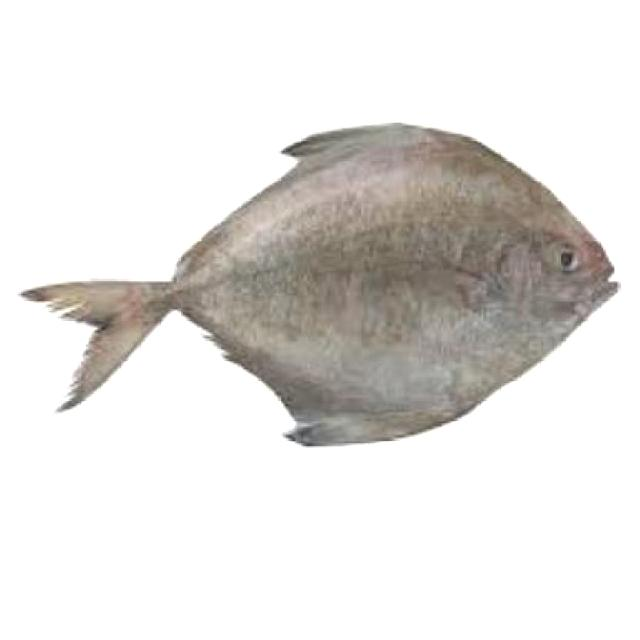ikan-pacu: (40, 120, 612, 440)
